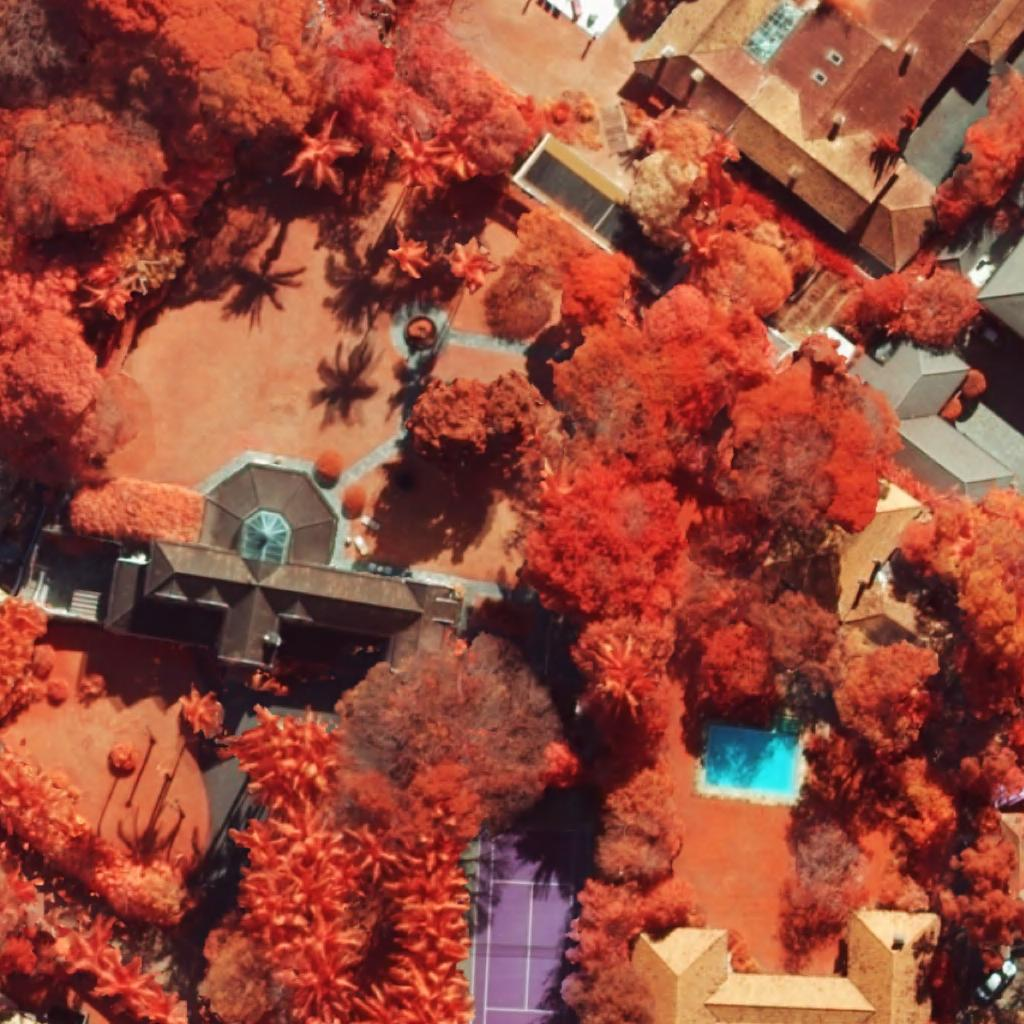pool: (705, 725, 800, 794)
